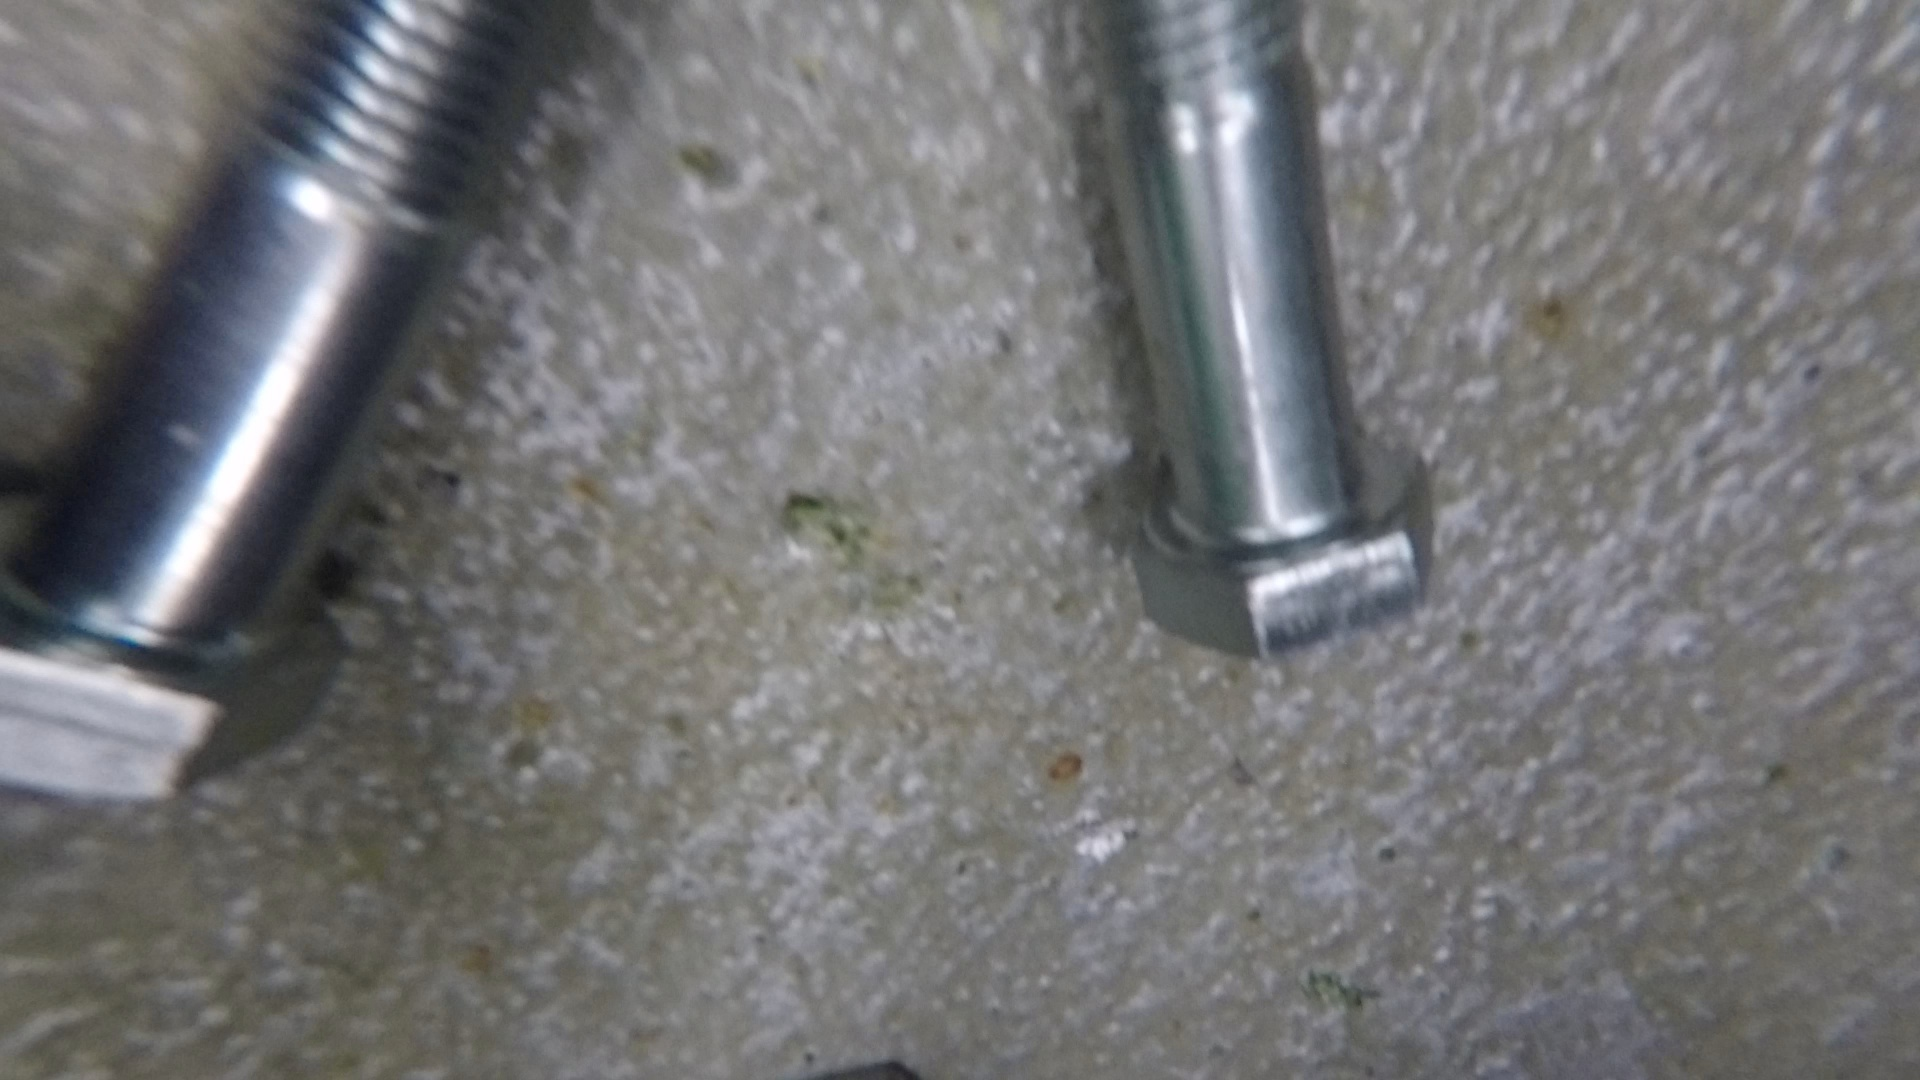bolt: (1, 1, 551, 800), (1102, 1, 1436, 655)
